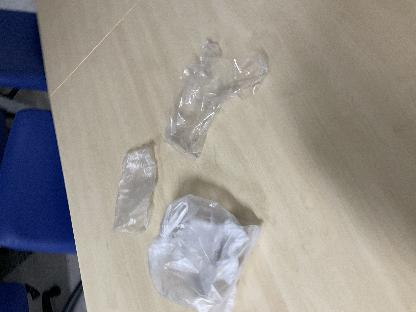Others: (149, 33, 275, 165), (146, 186, 262, 308), (110, 145, 158, 234)
